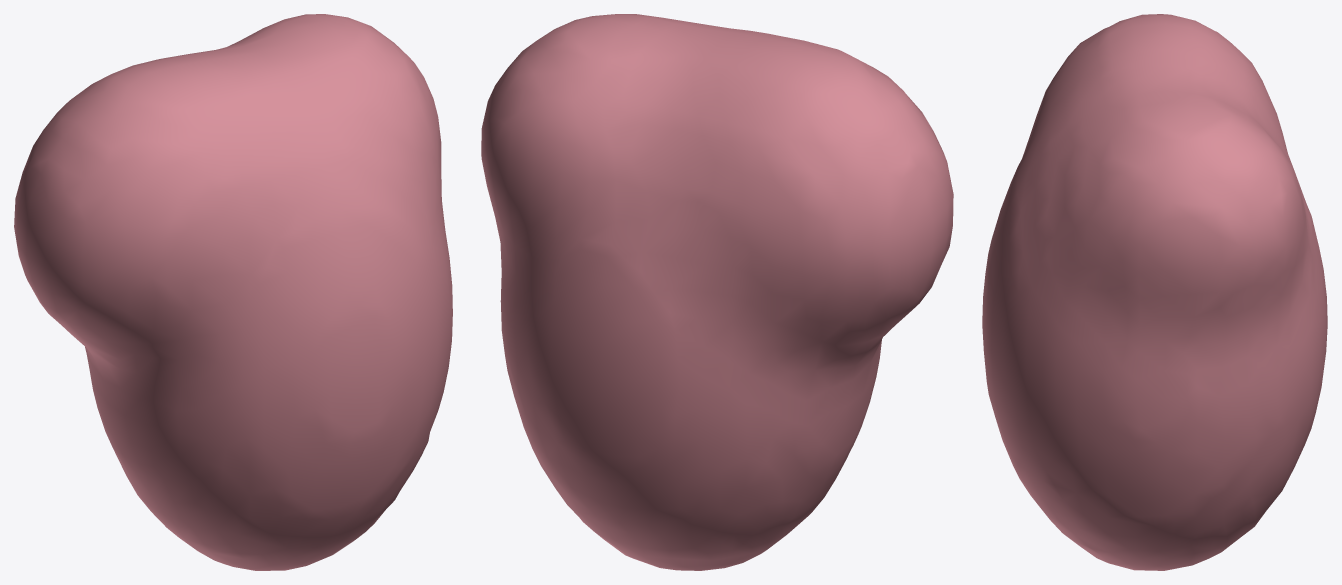
Rendered from organ-heart.glb.
3 renders of one model, left to right at view 1: azimuth 30°, elevation 25°; view 2: azimuth 150°, elevation 25°; view 3: azimuth 270°, elevation 25°, orthographic. The views are drawn at different scales.
Visible parts, largest first — view 1: world; view 2: world; view 3: world.
Part boxes in pixels (x1,y1,x2,y2): world: (14,14,452,570); world: (481,14,953,570); world: (982,14,1327,570).
Size of the model in its own units: 0.1814 by 0.2189 by 0.1415.
